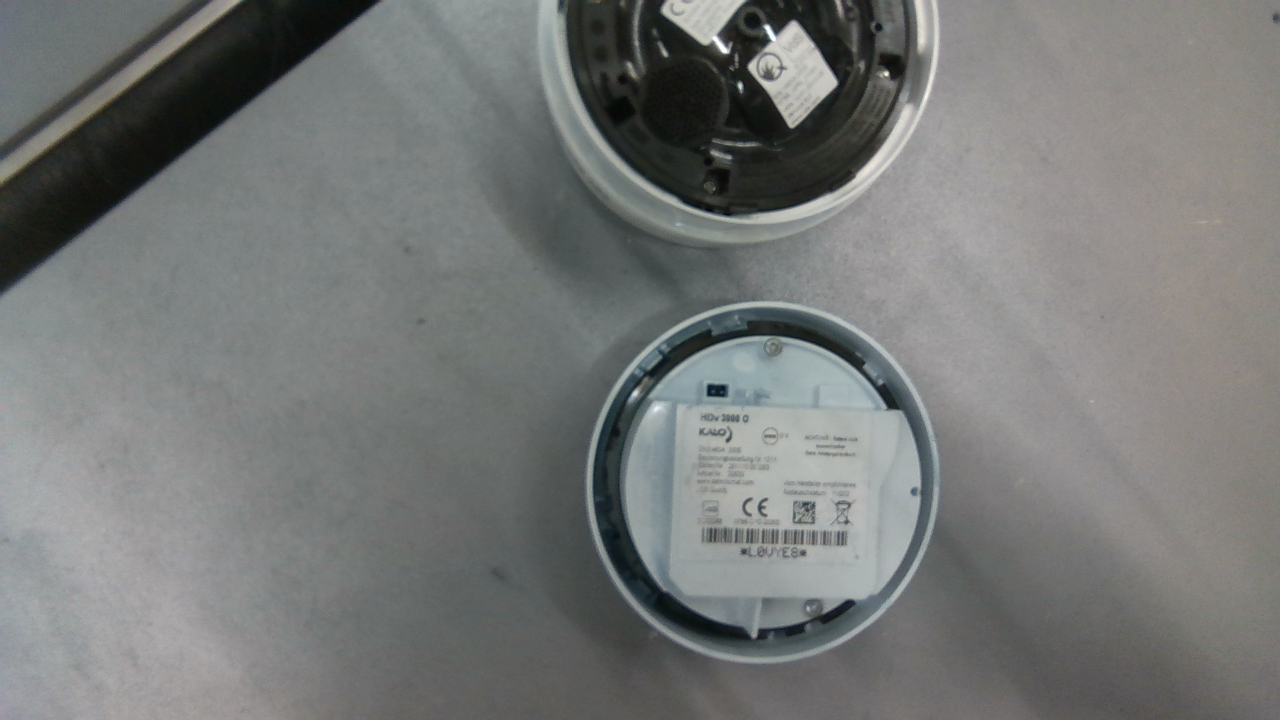HexScrew: (872, 58, 899, 84), (702, 173, 725, 198), (764, 337, 784, 357), (803, 598, 823, 616)
